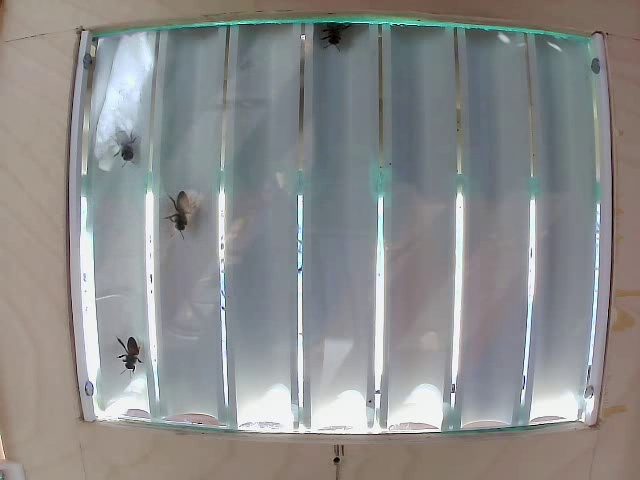bee: (166, 194, 195, 248), (107, 338, 148, 368)
